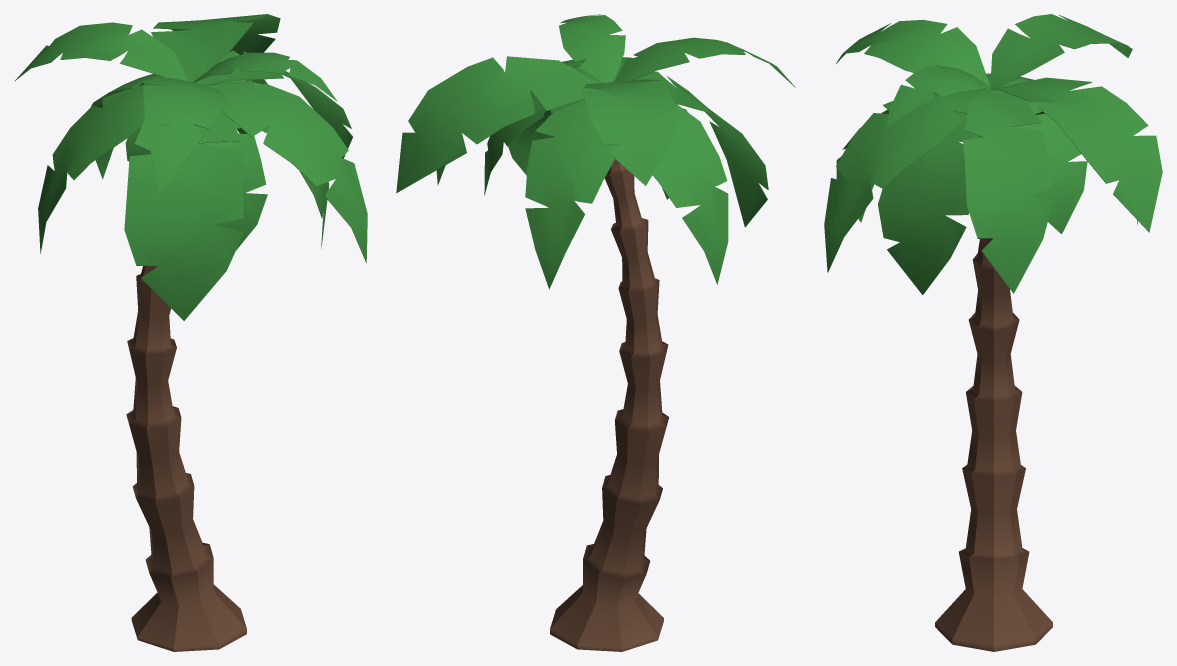
Rendered from PalmStraight.fbx.
The picture shows the model from 3 angles, left to right: view 1: azimuth 30°, elevation 25°; view 2: azimuth 150°, elevation 25°; view 3: azimuth 270°, elevation 25°; orthographic projection.
Parts seen in each view (by area): view 1: PalmStraight; view 2: PalmStraight; view 3: PalmStraight.
Boxes of the visible parts, x1,y1,x2,y2 form: PalmStraight: (14, 14, 367, 651); PalmStraight: (396, 14, 795, 651); PalmStraight: (824, 14, 1162, 651).
Bounding box in the file's own units: 253 × 474 × 254.
